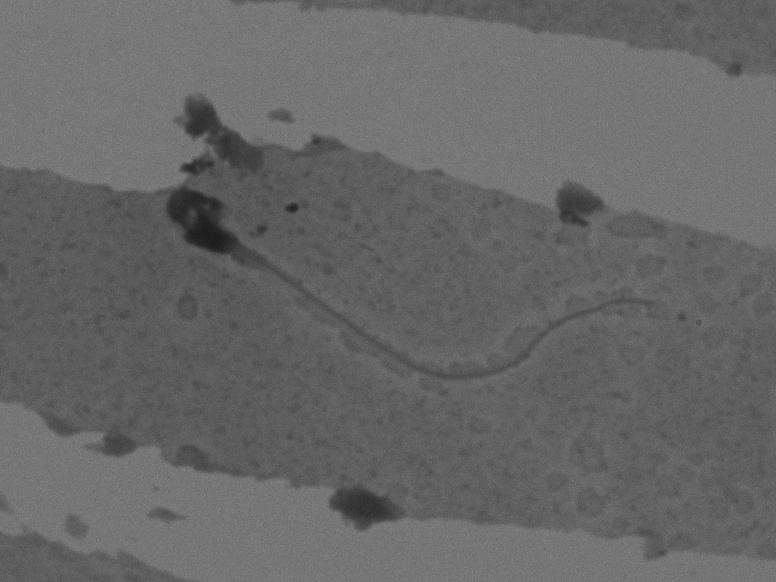Abnormal: (154, 176, 682, 405)
